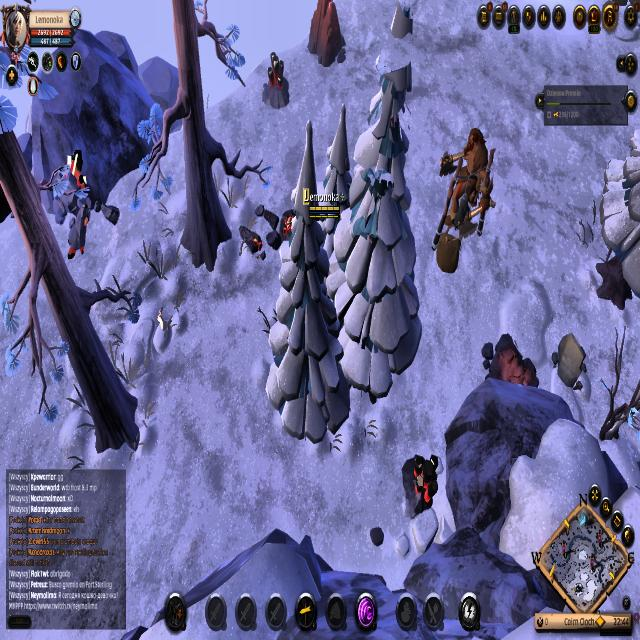ore tier 5: (401, 447, 441, 519), (261, 52, 291, 111)
rock tier 1: (554, 330, 588, 397)
rock tier 5: (306, 0, 343, 73)
